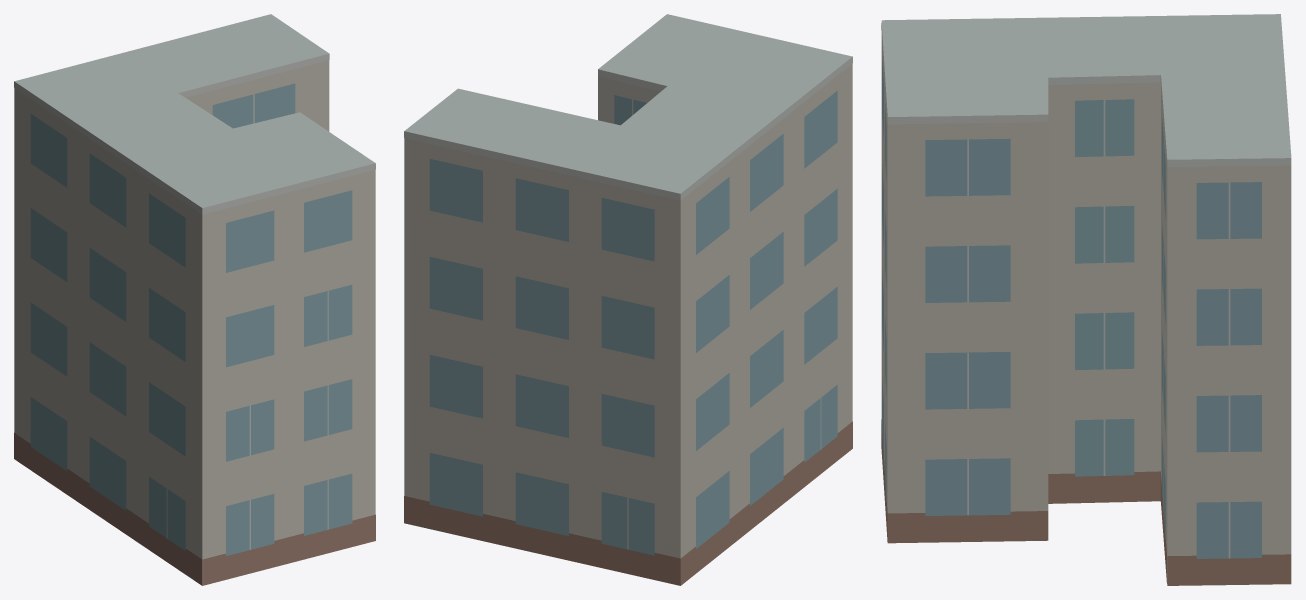
File: survey-upis-32475011.glb
3 renders of one model, left to right at view 1: azimuth 30°, elevation 25°; view 2: azimuth 150°, elevation 25°; view 3: azimuth 270°, elevation 25°, orthographic. The views are drawn at different scales.
Parts seen in each view (by area): view 1: survey-upis-32475011.tmp; view 2: survey-upis-32475011.tmp; view 3: survey-upis-32475011.tmp.
Part boxes in pixels (<box>): survey-upis-32475011.tmp: <box>14,14,375,585</box>; survey-upis-32475011.tmp: <box>404,14,852,585</box>; survey-upis-32475011.tmp: <box>881,14,1291,585</box>.
Size of the model in its own units: 10.43 by 14.2 by 12.4.
